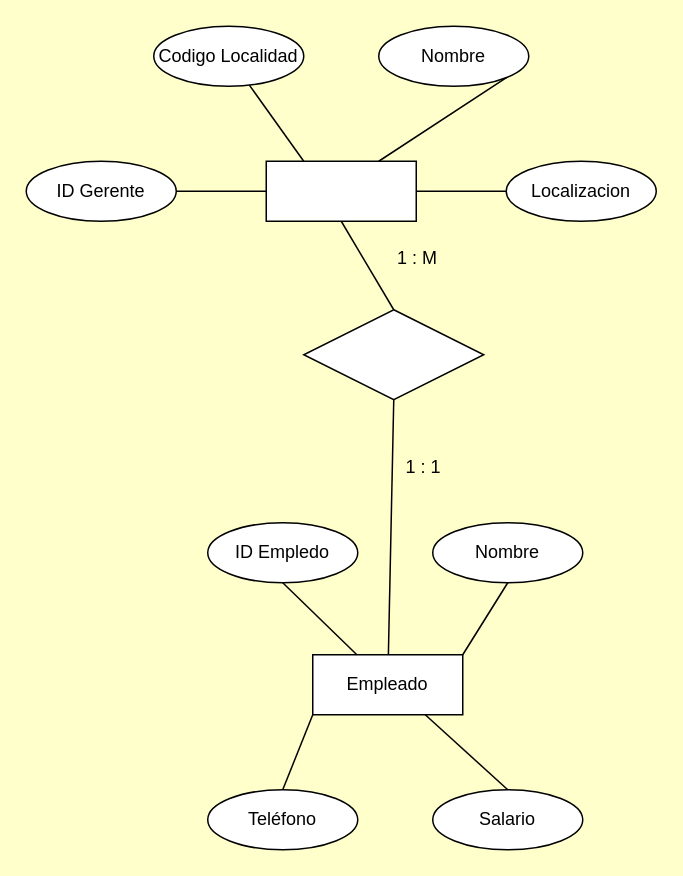
Image size: 683x876. Some labels were removed from this diagram. The shapes that lost their labels are listed below. From the top down, each one's centre as x and y in pixels, then its label:
At point 340,190: "Departamento".
At point 393,354: "Pertenece".
